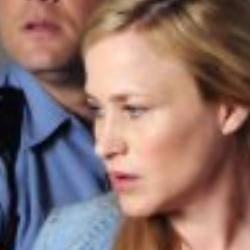face: (75, 5, 248, 224)
